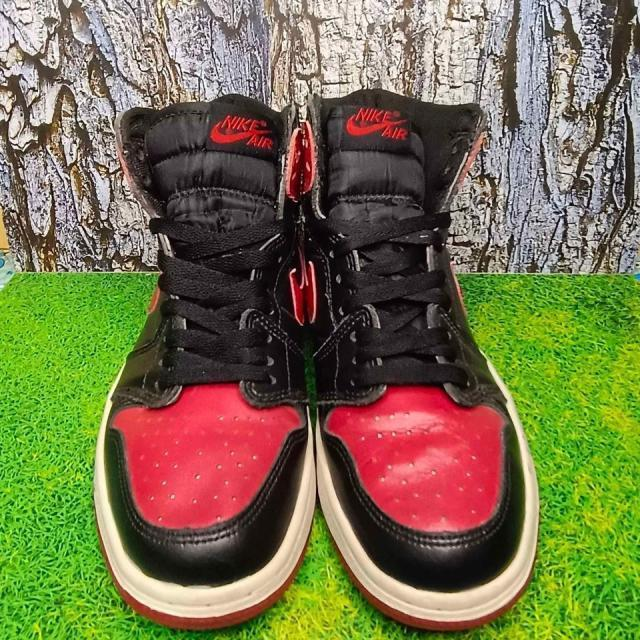nike fake jordan 1: (303, 90, 540, 634), (86, 81, 316, 628)
